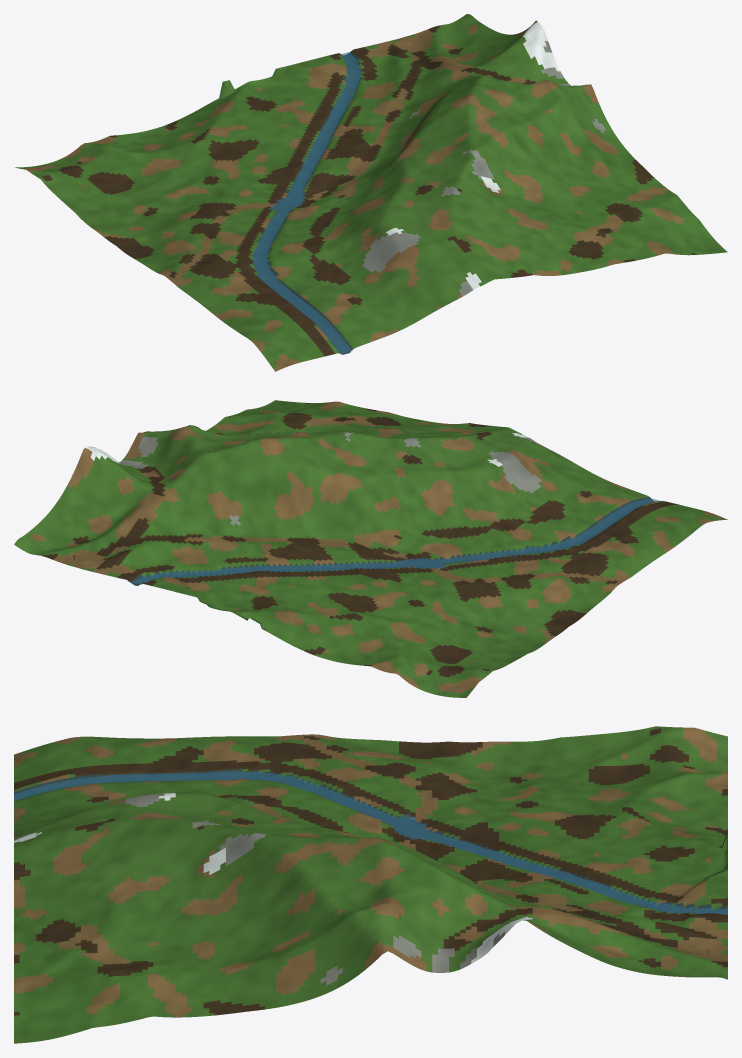
The model's file is chunk_2_2.glb.
3 renders of one model, top to bottom at view 1: azimuth 30°, elevation 25°; view 2: azimuth 150°, elevation 25°; view 3: azimuth 270°, elevation 25°, orthographic. The views are drawn at different scales.
Parts seen in each view (by area): view 1: Surface_Grass, Surface_Dirt, Surface_Mud, Surface_Water, Water, Surface_Gravel, Surface_Snow; view 2: Surface_Grass, Surface_Dirt, Surface_Mud, Surface_Water, Water, Surface_Gravel; view 3: Surface_Grass, Surface_Dirt, Surface_Mud, Surface_Water, Water, Surface_Gravel, Surface_Snow.
Part boxes in pixels (x1,y1,x2,y2): Surface_Grass: (15,14,727,368); Surface_Dirt: (23,20,684,371); Surface_Mud: (42,25,695,356); Surface_Water: (251,52,362,354); Water: (252,52,361,353); Surface_Gravel: (362,41,606,296); Surface_Snow: (386,22,560,289); Surface_Grass: (14,400,725,697); Surface_Dirt: (30,401,727,692); Surface_Mud: (42,403,677,677); Surface_Water: (131,497,654,585); Water: (127,498,659,584); Surface_Gravel: (119,432,541,525); Surface_Grass: (14,726,727,1043); Surface_Dirt: (14,727,727,1017); Surface_Mud: (14,728,727,1015); Surface_Water: (14,769,727,914); Water: (14,771,727,914); Surface_Gravel: (14,793,504,985); Surface_Snow: (14,793,532,963).
Size of the model in its own units: 256 by 54.4 by 256.
